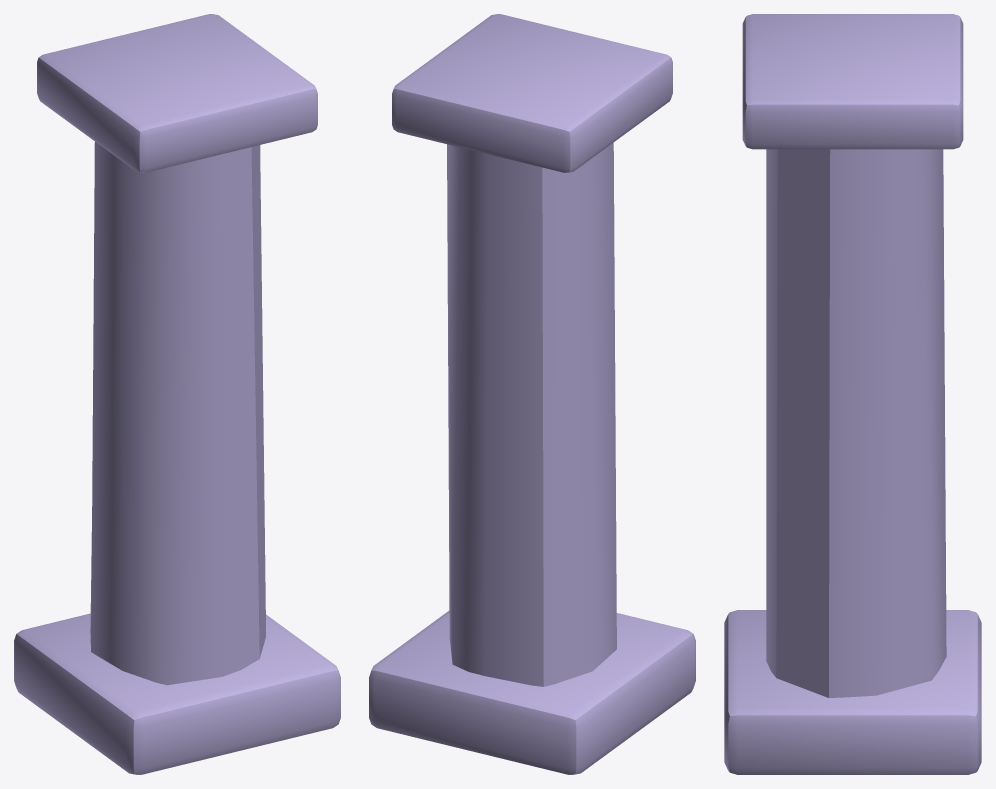
Rendered from Plateau_Column0.fbx.
3 views of the same model, side by side, from view 1: azimuth 30°, elevation 25°; view 2: azimuth 150°, elevation 25°; view 3: azimuth 270°, elevation 25° (orthographic). The views are drawn at different scales.
Parts seen in each view (by area): view 1: Plateau_Column0; view 2: Plateau_Column0; view 3: Plateau_Column0.
Part boxes in pixels (x1=…): Plateau_Column0: x1=14, y1=14, x2=340, y2=774; Plateau_Column0: x1=369, y1=14, x2=695, y2=774; Plateau_Column0: x1=724, y1=14, x2=981, y2=774.
Bounding box in the file's own units: 1.4 × 4.02 × 1.4.
